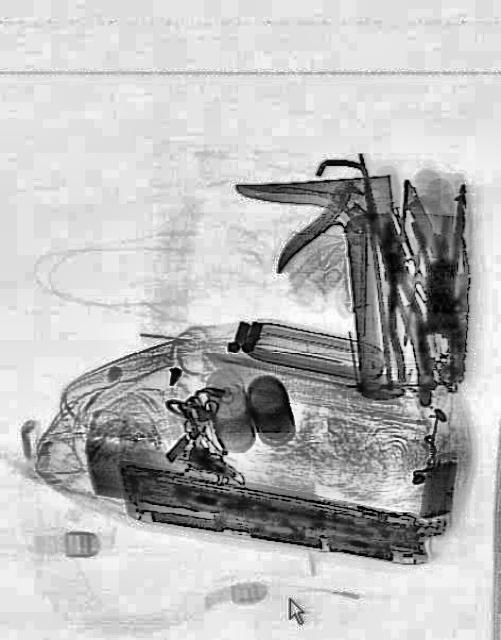Knife: (231, 169, 406, 409)
Pliers: (368, 214, 436, 386)
